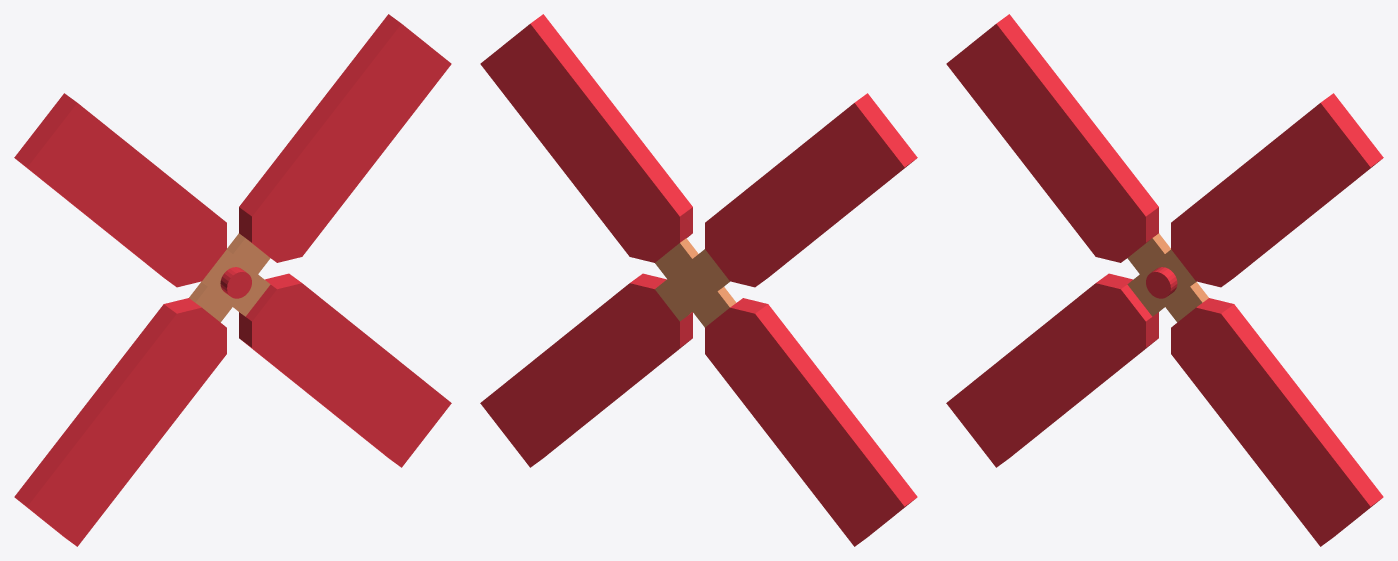
File: windmillBlades.fbx
3 renders of one model, left to right at view 1: azimuth 30°, elevation 25°; view 2: azimuth 150°, elevation 25°; view 3: azimuth 330°, elevation 25°, orthographic.
Visible parts, largest first — view 1: blades; view 2: blades; view 3: blades.
Boxes of the visible parts, x1=… form: blades: x1=14, y1=14, x2=451, y2=546; blades: x1=480, y1=14, x2=917, y2=546; blades: x1=946, y1=14, x2=1383, y2=546.
Size of the model in its own units: 124 by 6.67 by 124.
